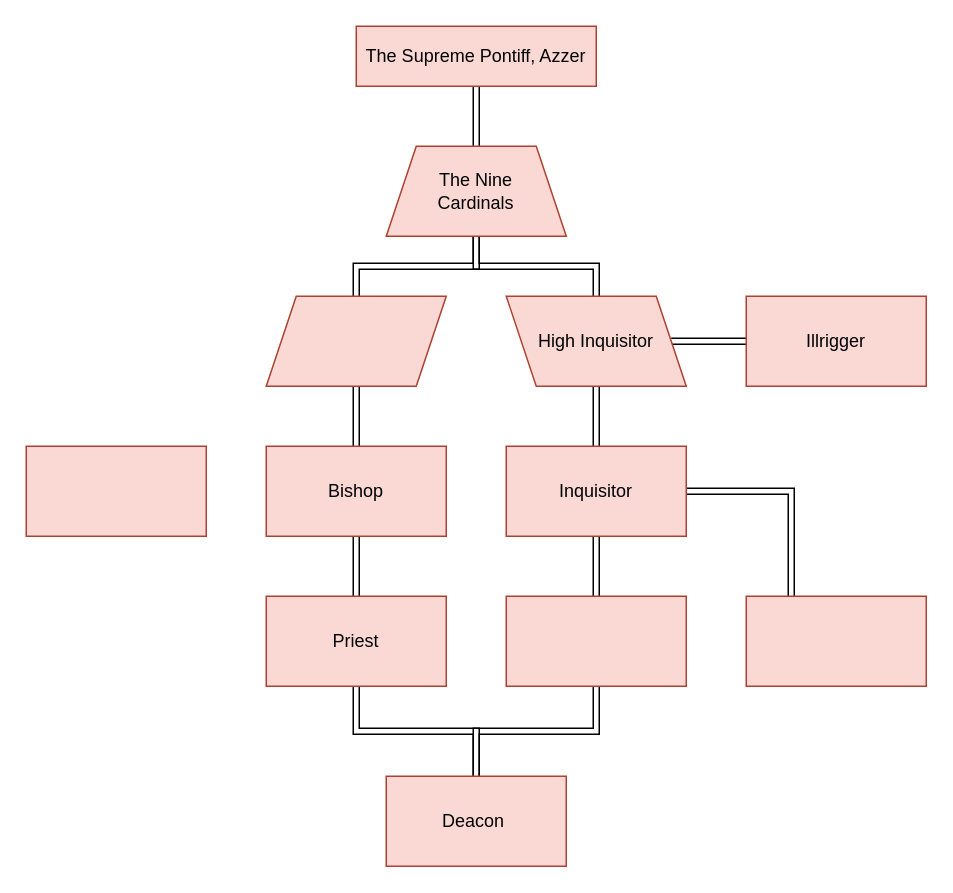
Some shapes in this 953 by 893 pixel diagram are drawn without their labels. The shapes that lost their labels are listed below. From the top down, each one's centre as x and y in pixels, then its label:
the point at 355,340: High Bishop
the point at 115,490: Pastor
the point at 595,640: Acolyte
the point at 835,640: Crusader
